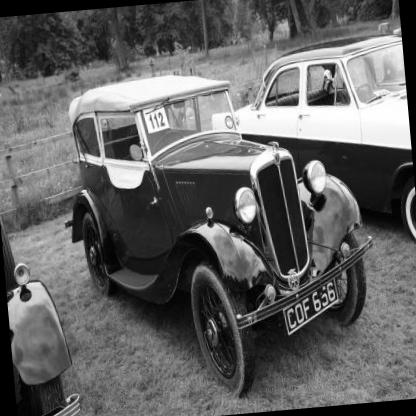car: (47, 20, 387, 415)
